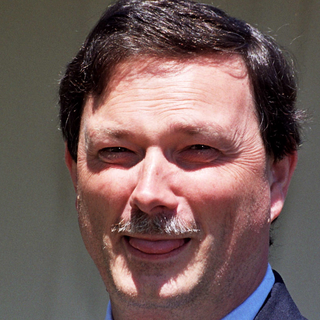eye: (167, 130, 229, 167), (90, 134, 142, 169)
